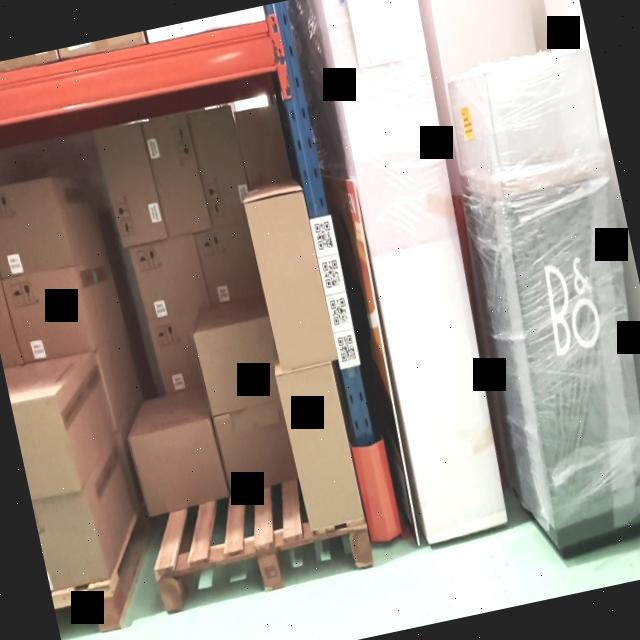box: (248, 189, 337, 370), (276, 365, 362, 527), (133, 418, 228, 516), (142, 114, 210, 234), (194, 321, 280, 412), (8, 267, 90, 361), (213, 402, 297, 492), (100, 125, 162, 244), (32, 492, 104, 592), (191, 108, 250, 224), (132, 232, 208, 320), (0, 179, 69, 274), (11, 396, 74, 497), (195, 221, 263, 304), (234, 101, 292, 185), (149, 314, 203, 392)
